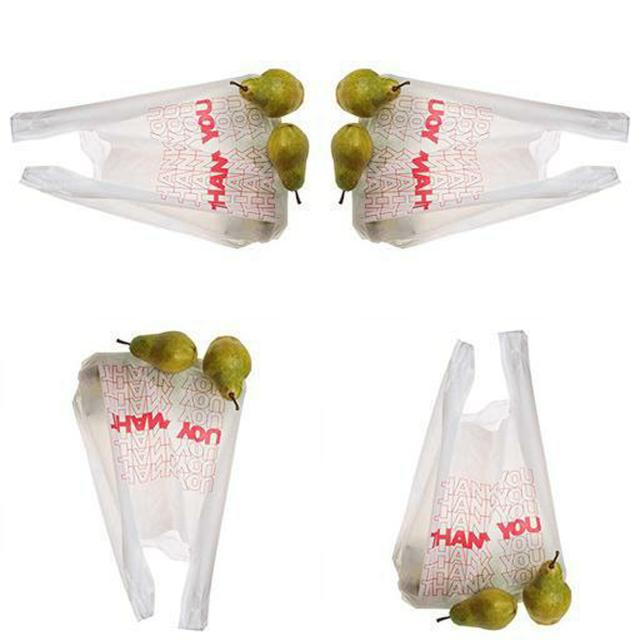Single-layer Plastic: (11, 80, 288, 248), (352, 80, 629, 246), (394, 331, 560, 608), (75, 352, 240, 630)
